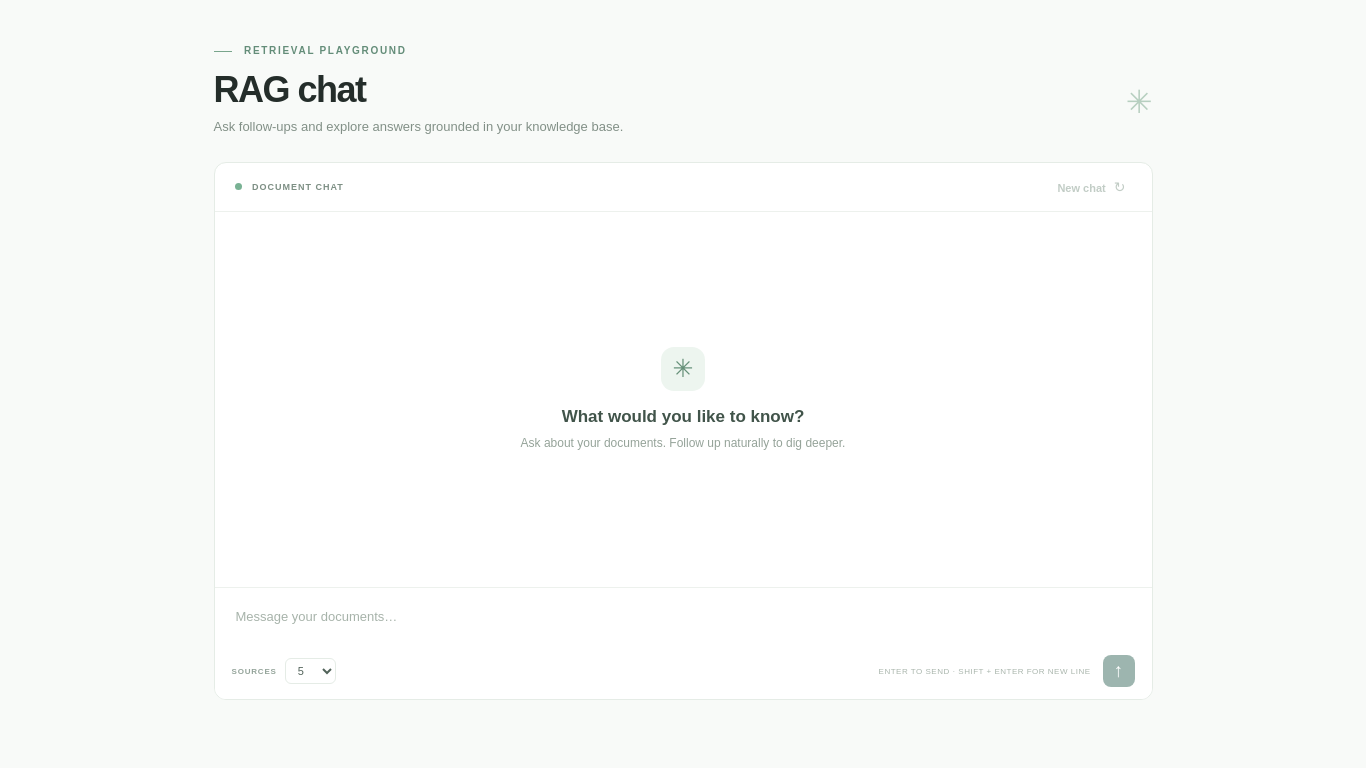
Scenario: ChatPage › sends prior turns with follow-ups and opens cited source details
Type "What is photosynthesis?" into the text box labelled "Message" at (683, 628), box [232,601,1134,655]
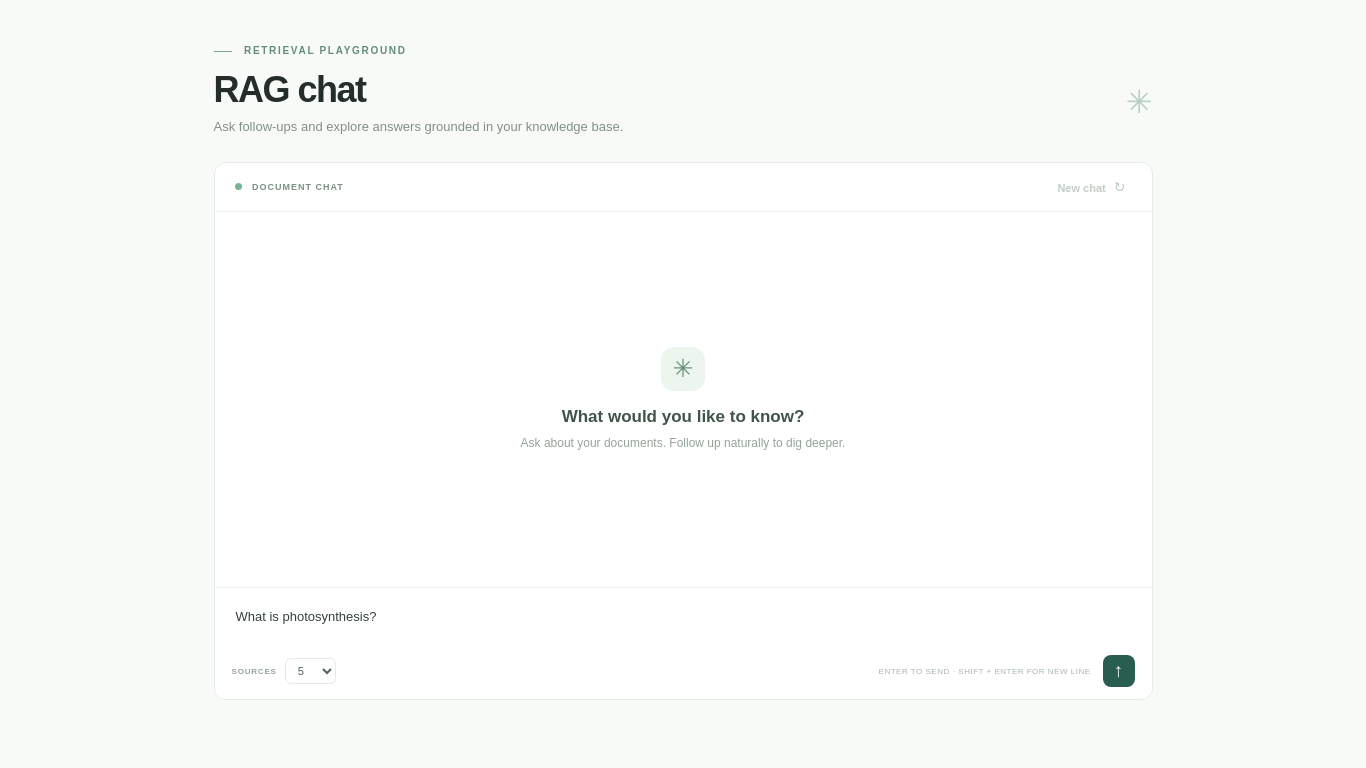
Click the button named "Send message" at (1118, 671), box [1102,655,1134,687]
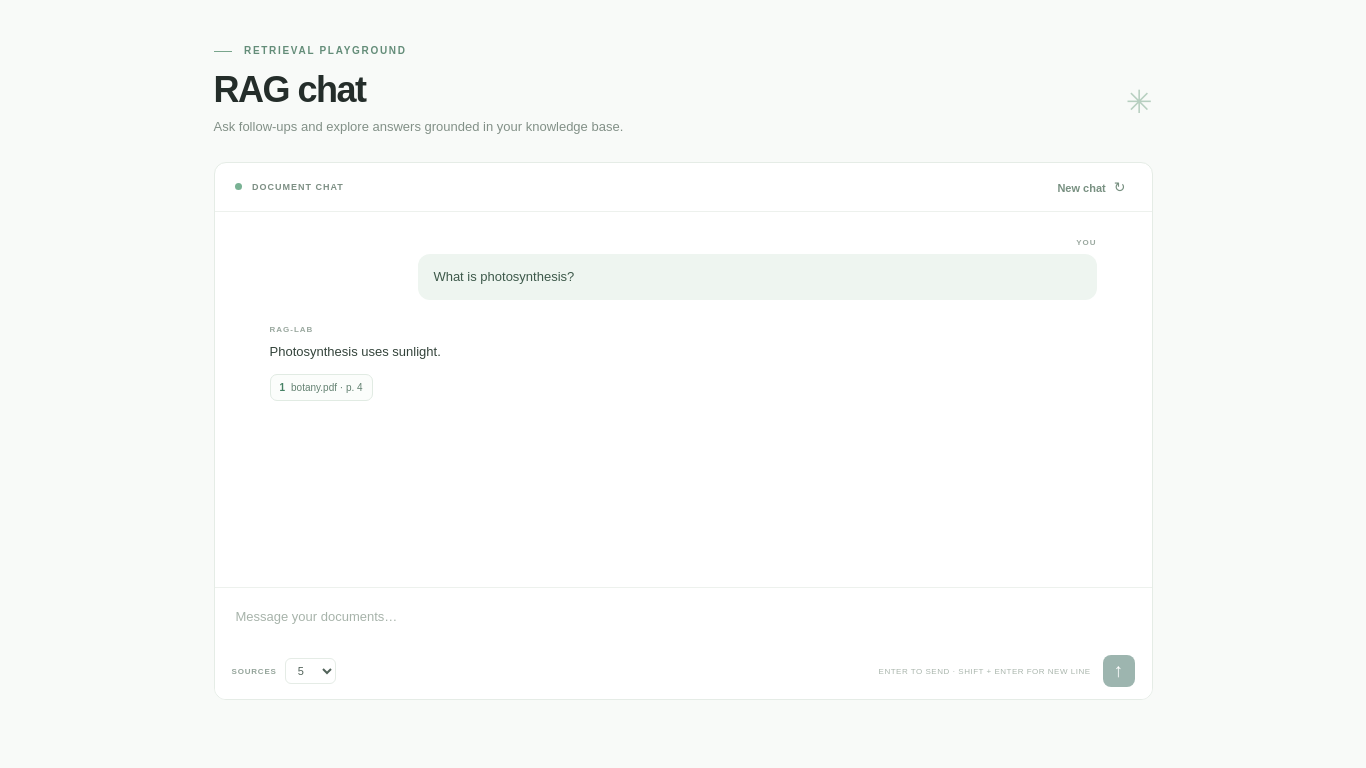
Check: the text "Photosynthesis uses sunlight." is shown, box [270,344,441,359]
Click the button "1 botany.pdf · p. 4" at (321, 388), box [270,374,373,401]
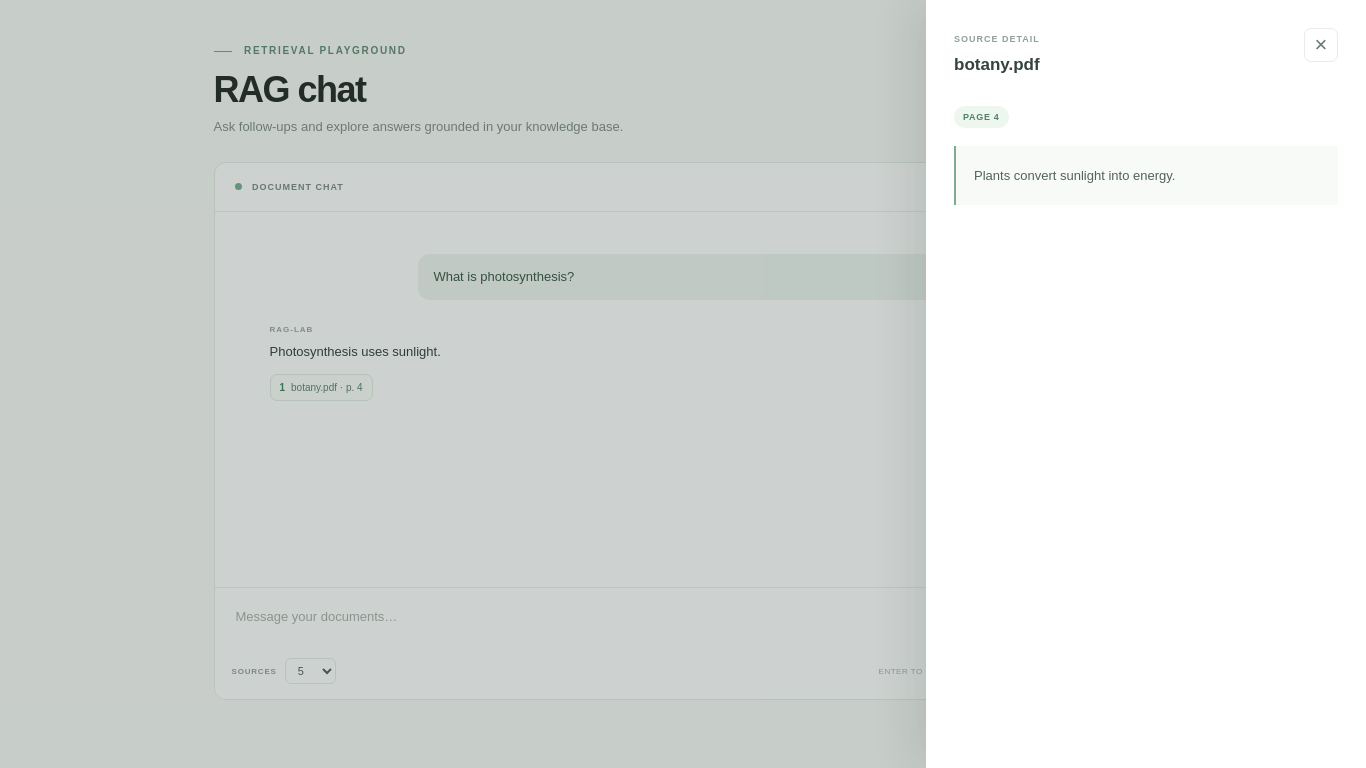
Check: the dialog shows "Plants convert sunlight into energy.", box [974,168,1175,183]
Click the button named "Close source details" at (1321, 45), box [1304,28,1338,62]
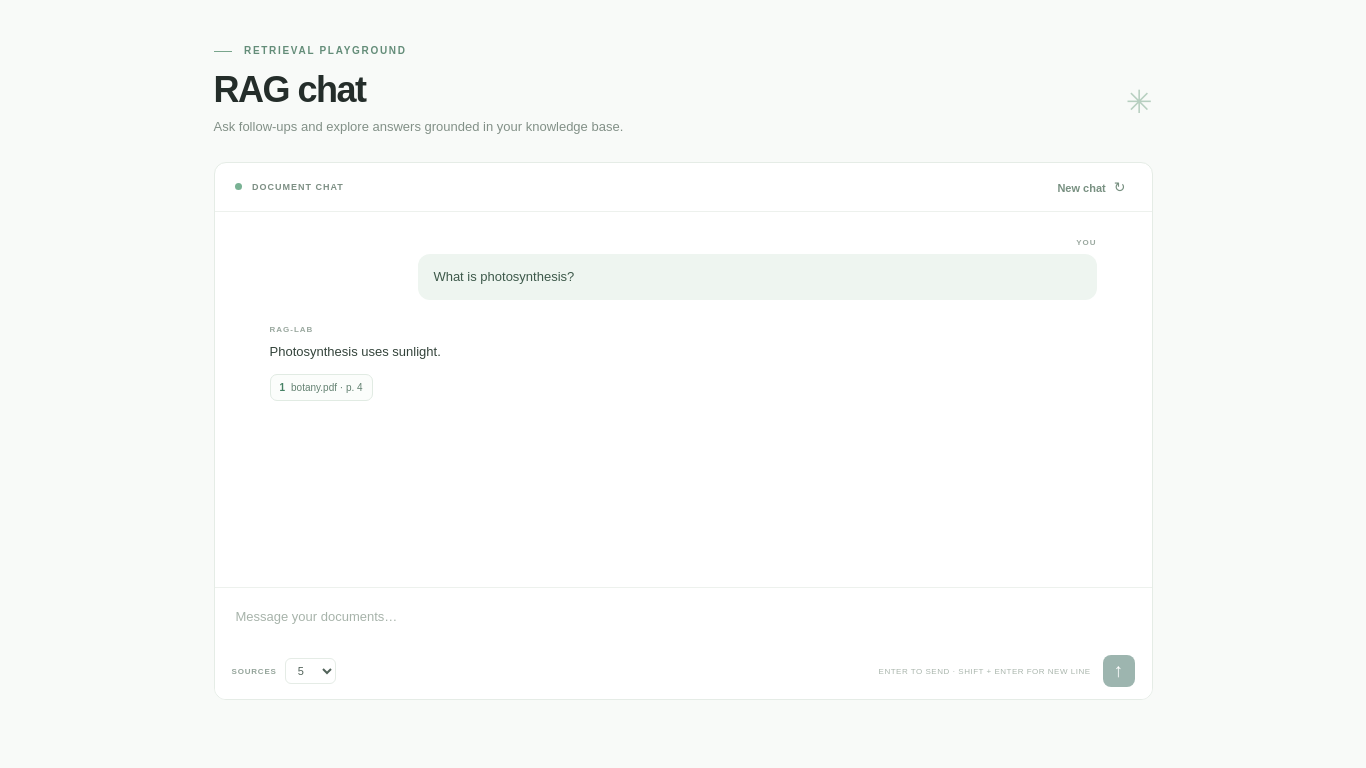
Type "What about its roots?" into the text box labelled "Message" at (683, 628), box [232,601,1134,655]
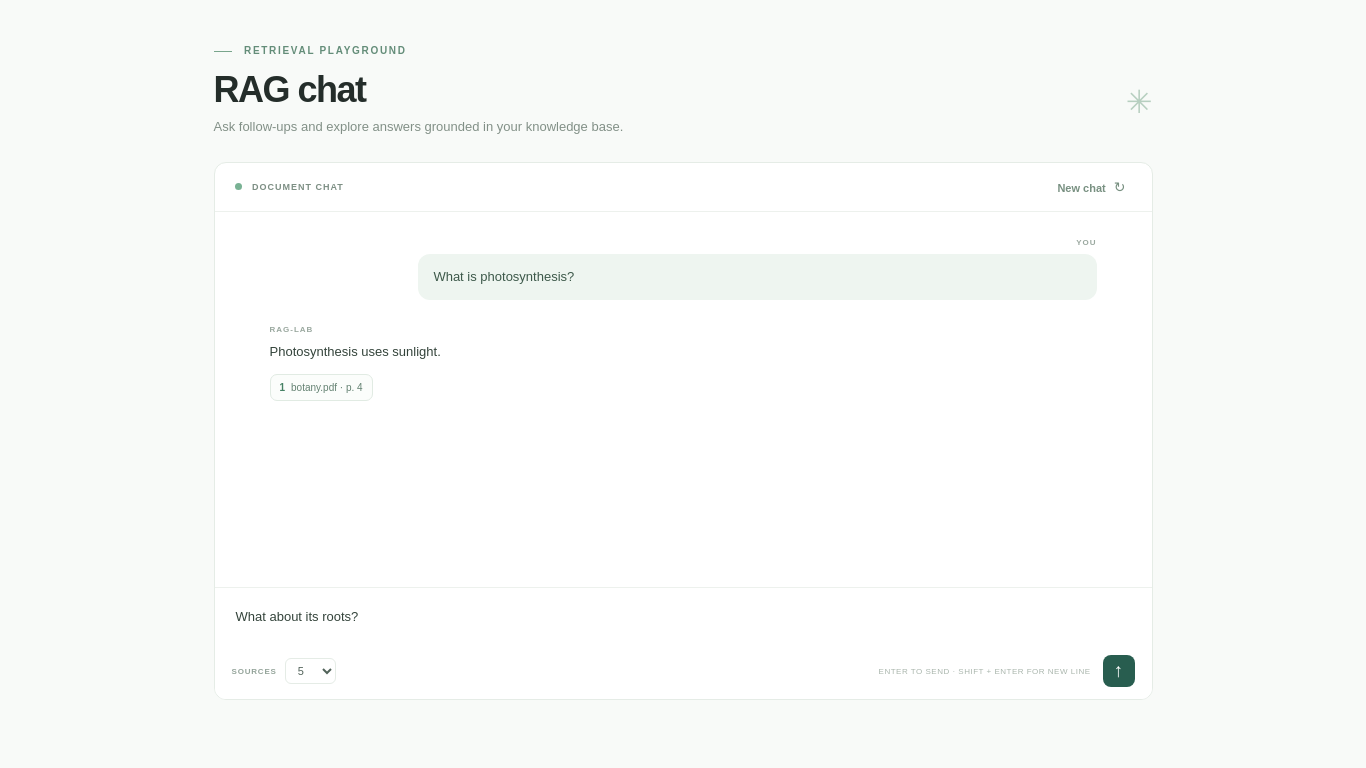
Click the button named "Send message" at (1118, 671), box [1102,655,1134,687]
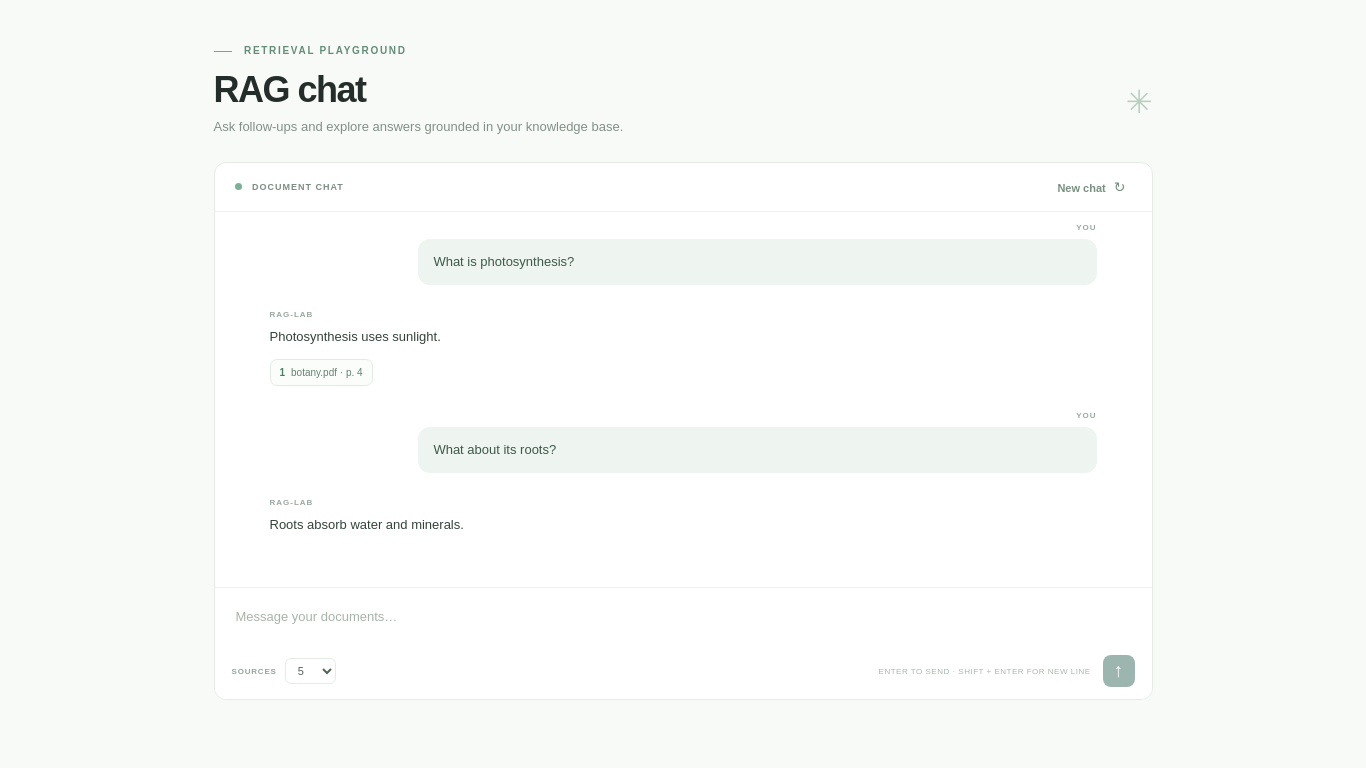
Check: the text "Roots absorb water and minerals." is shown, box [270,517,464,532]
